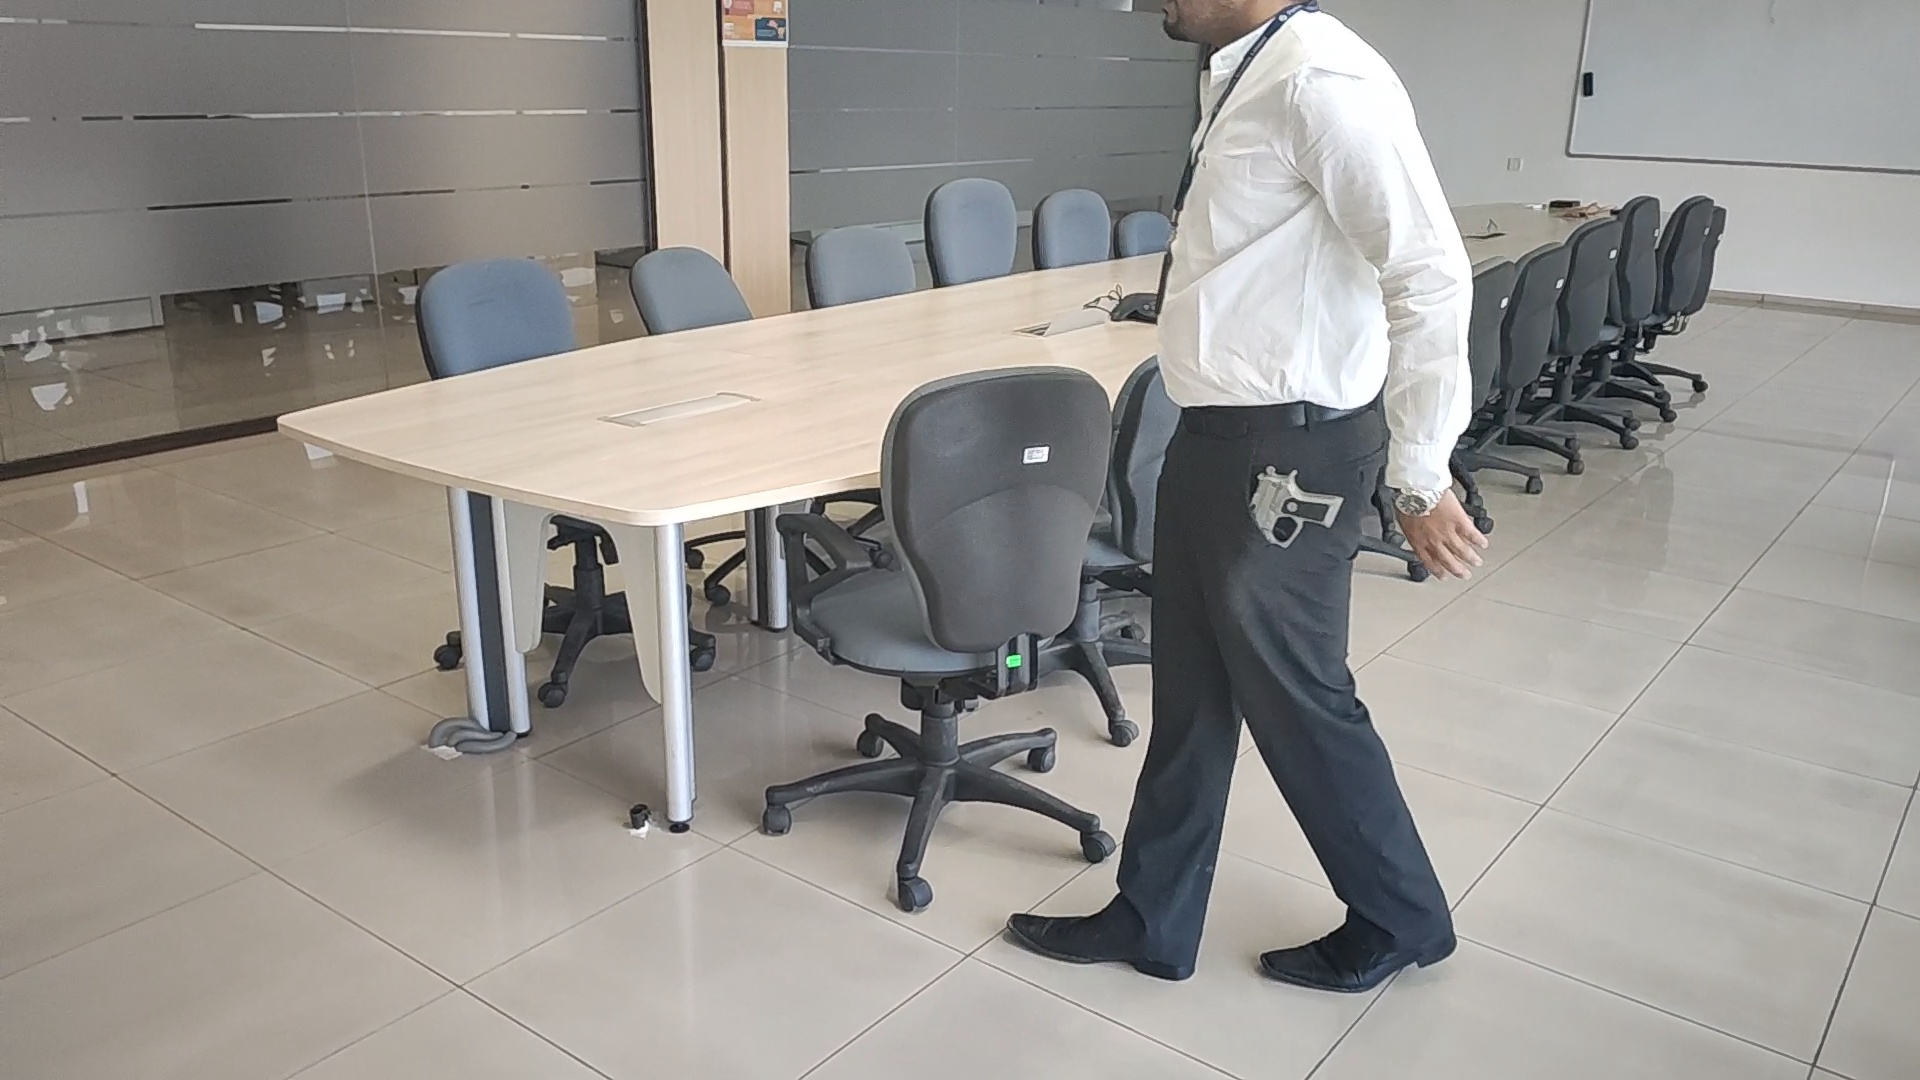gun: (1244, 464, 1345, 546)
